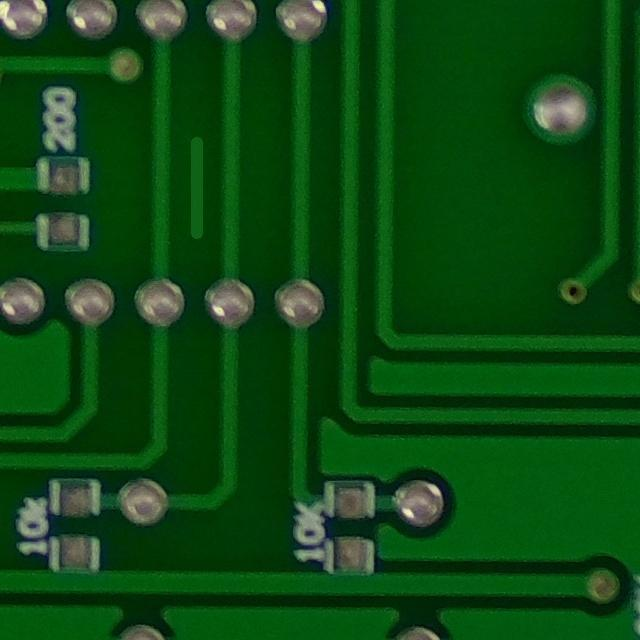spurious_copper: (164, 124, 229, 247)
